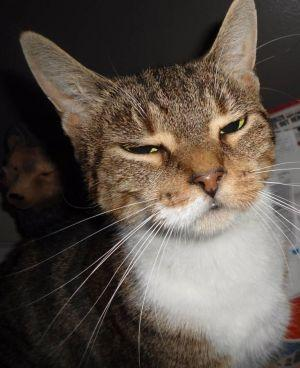bengal: (19, 1, 292, 250)
